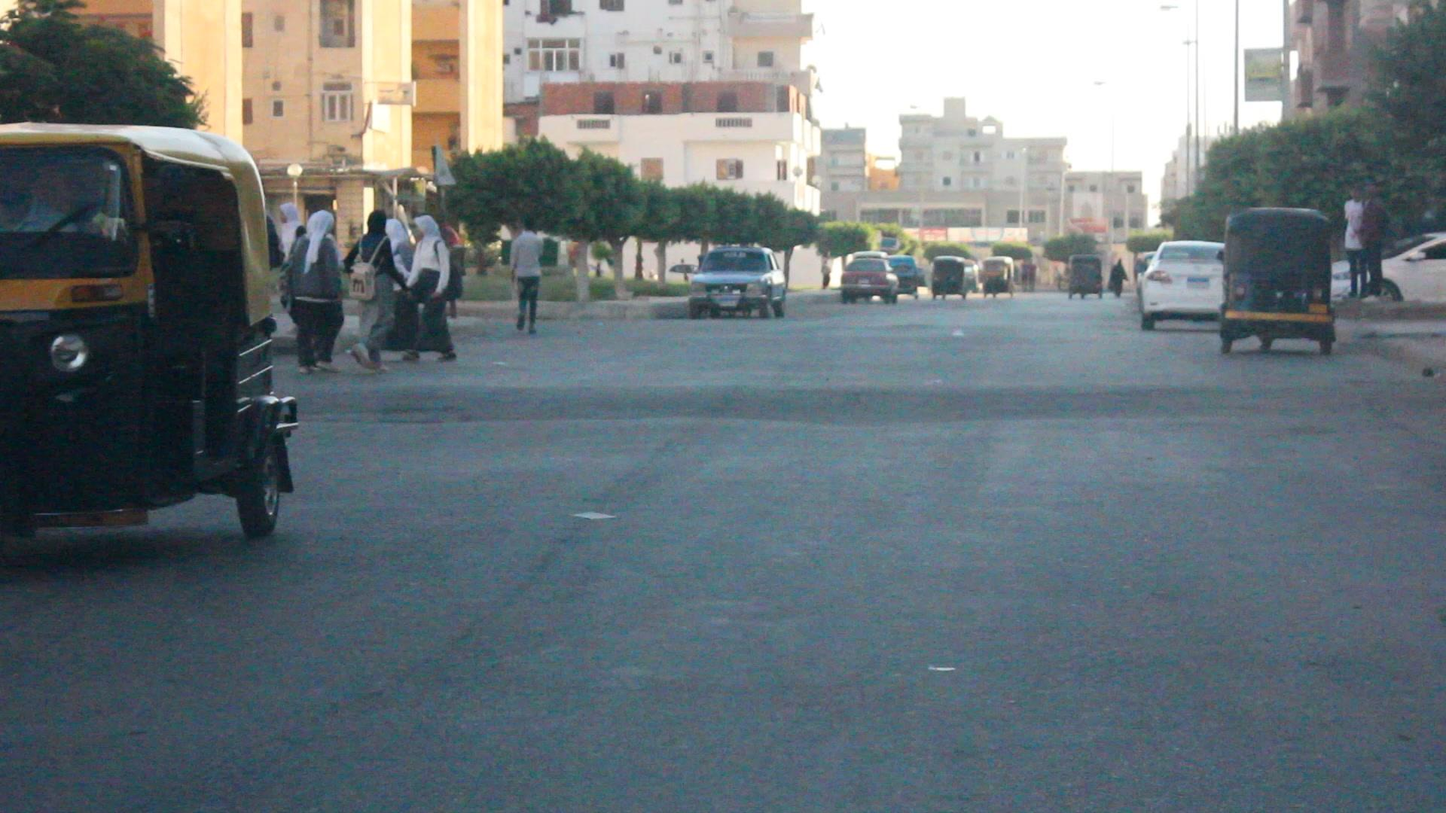Bump: (294, 361, 1435, 438)
